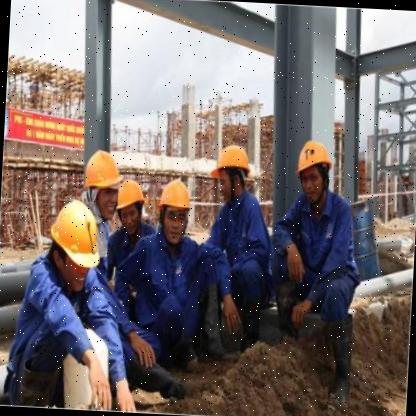bota: (194, 284, 244, 364), (323, 309, 353, 402)
capacete: (44, 198, 103, 294), (82, 145, 124, 225), (292, 138, 333, 202), (155, 178, 192, 242), (211, 143, 251, 202), (113, 178, 146, 235)
oculos: (164, 210, 188, 224)
